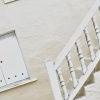stairs: (73, 67, 100, 100)
